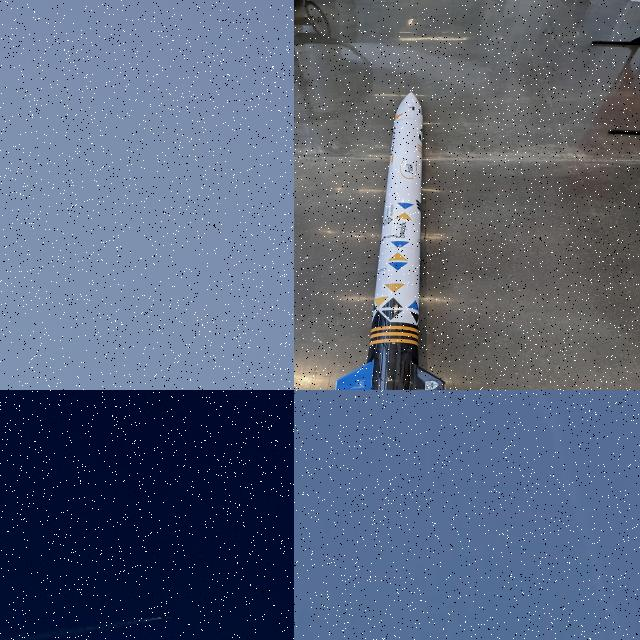Rocket: (334, 91, 446, 390), (158, 615, 174, 619)
